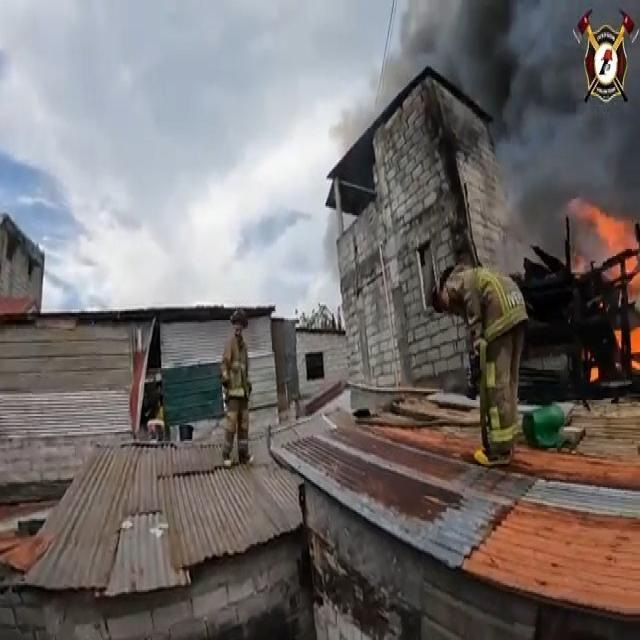Fire: (562, 194, 640, 388)
Smoke: (366, 0, 640, 249)
